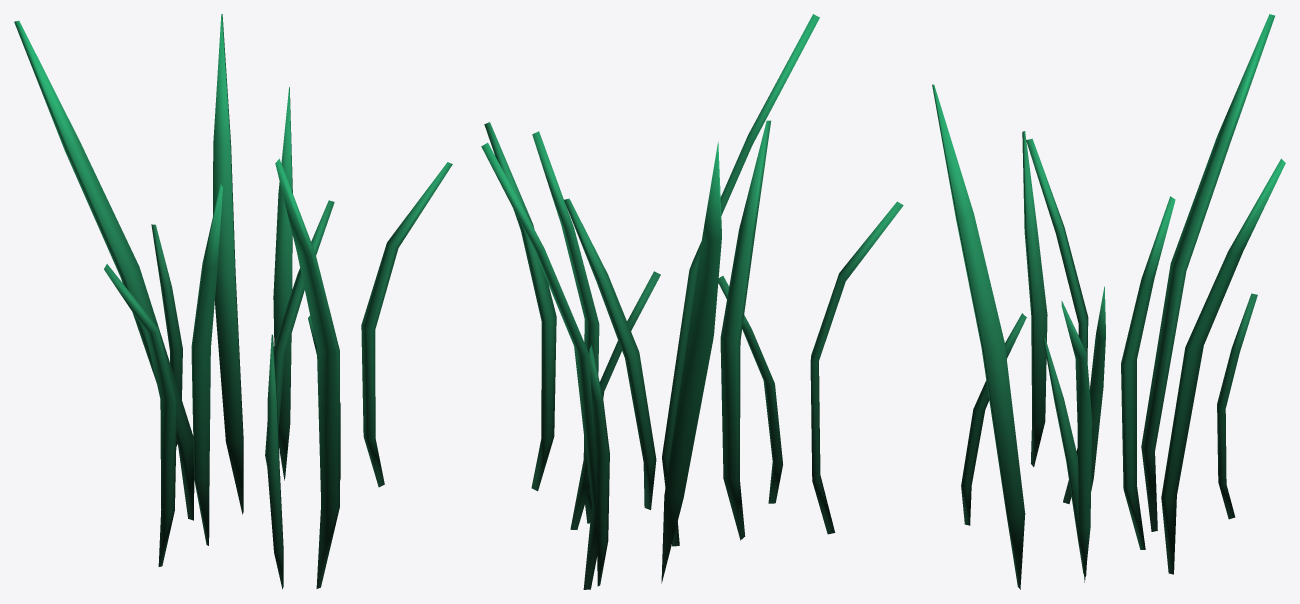
The model's file is grass11.fbx.
The picture shows the model from 3 angles, left to right: view 1: azimuth 30°, elevation 25°; view 2: azimuth 150°, elevation 25°; view 3: azimuth 270°, elevation 25°; orthographic projection. The views are drawn at different scales.
Parts seen in each view (by area): view 1: grass2; view 2: grass2; view 3: grass2.
Part boxes in pixels (bbox=[...]): grass2: bbox=[14, 14, 452, 589]; grass2: bbox=[481, 14, 903, 589]; grass2: bbox=[932, 14, 1285, 589].
Bounding box in the file's own units: 179 × 238 × 154.
